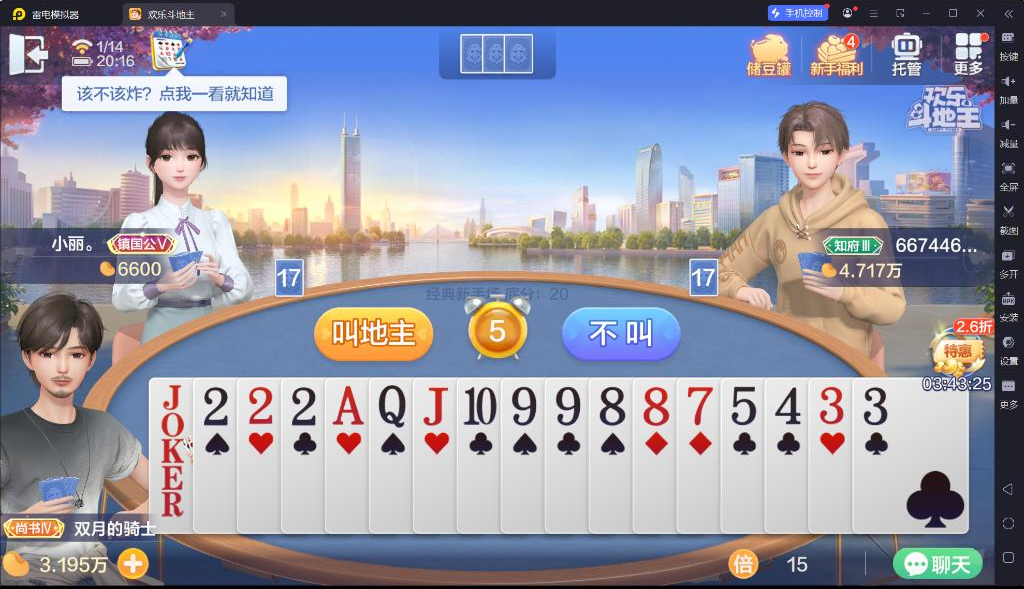A: (331, 382, 365, 428)
J: (417, 382, 451, 428)
JOKER: (157, 381, 187, 467)
Q: (374, 382, 409, 428)
eight: (637, 383, 672, 426), (595, 383, 628, 427)
five: (725, 381, 758, 426)
four: (771, 383, 805, 427)
nine: (508, 384, 540, 428), (552, 381, 582, 426)
seven: (682, 383, 716, 427)
ten: (460, 382, 500, 428)
three: (814, 382, 848, 425), (860, 383, 889, 427)
two: (200, 380, 233, 428), (243, 381, 276, 426), (289, 382, 319, 428)
